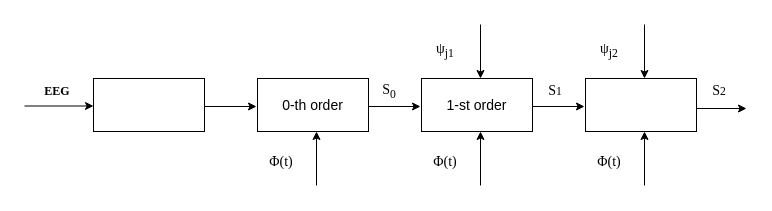
Some shapes in this 772 by 211 pixel diagram are drawn without their labels. The shapes that lost their labels are listed below. From the top down, each one's centre as x and y in pixels, then its label:
At pixel 148 105: "Standardization".
At pixel 640 105: "2-nd order".
